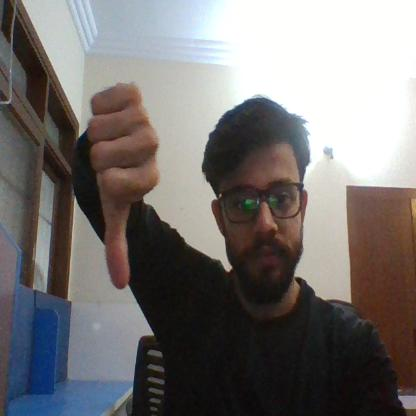thumbs-down: (85, 84, 162, 291)
